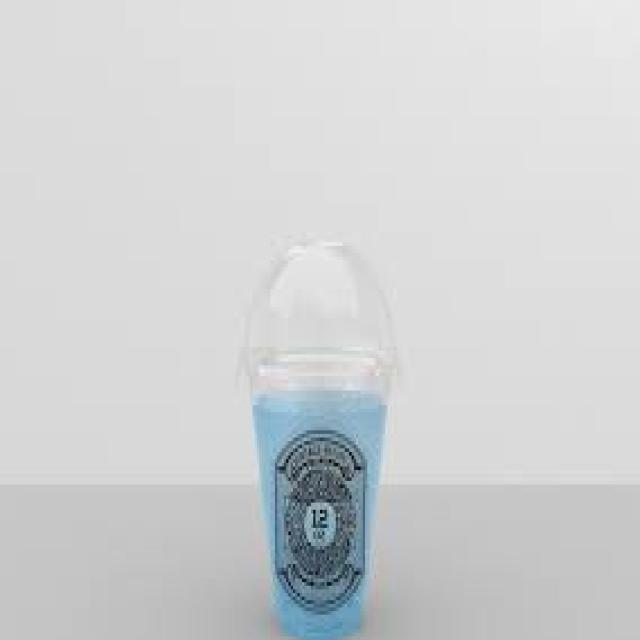bottle: (252, 352, 392, 637)
